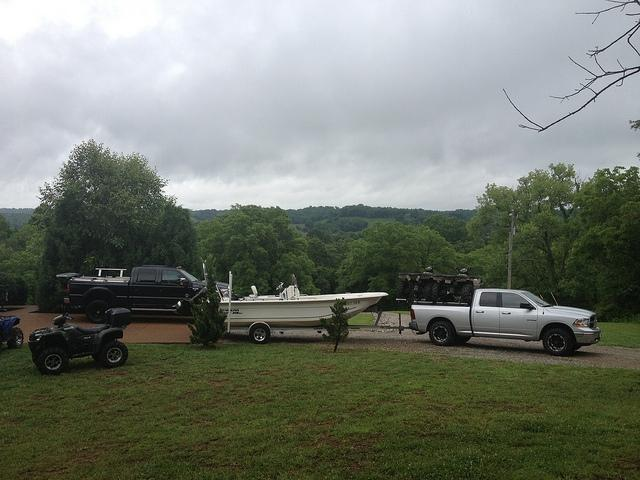motorcycle: (26, 308, 132, 372)
truck: (408, 288, 603, 356), (68, 268, 229, 322)
